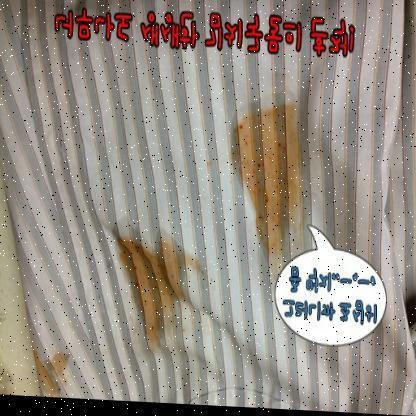kimchi: (112, 234, 203, 361), (228, 104, 300, 255), (35, 346, 76, 396)
